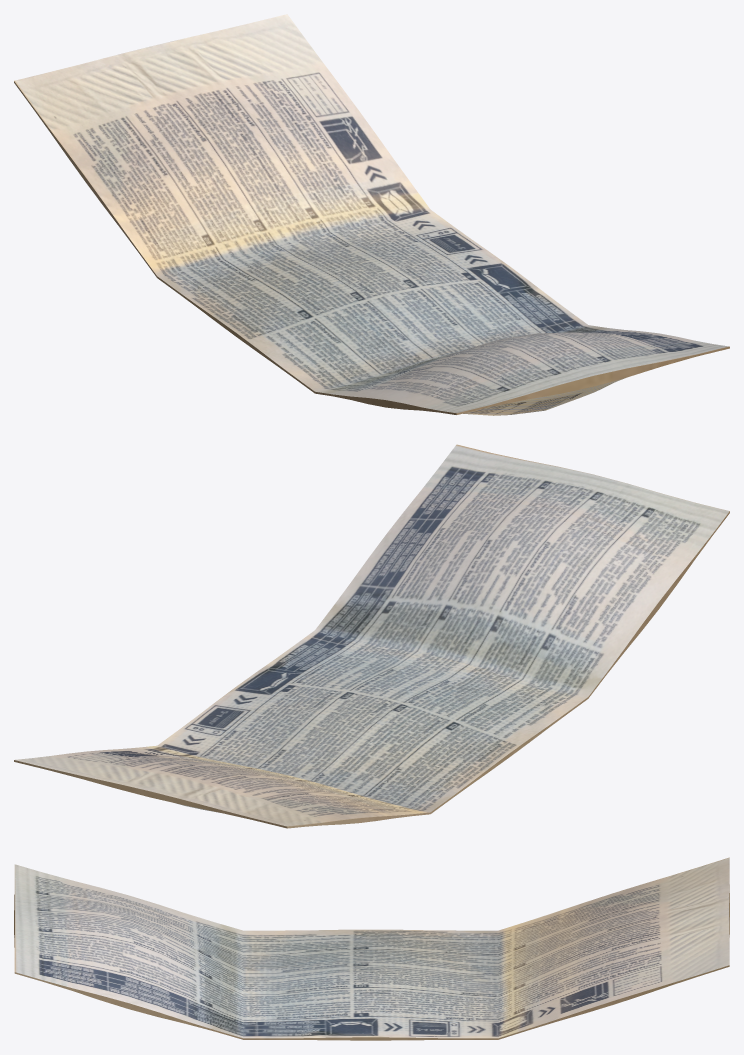
Rendered from popcorn_package.glb.
The picture shows the model from 3 angles, top to bottom: view 1: azimuth 30°, elevation 25°; view 2: azimuth 150°, elevation 25°; view 3: azimuth 270°, elevation 25°; orthographic projection. The views are drawn at different scales.
Parts seen in each view (by area): view 1: Plane.001; view 2: Plane.001; view 3: Plane.001.
Part boxes in pixels (bbox=[...]): Plane.001: bbox=[14, 14, 729, 415]; Plane.001: bbox=[14, 444, 729, 828]; Plane.001: bbox=[14, 857, 729, 1040].
Size of the model in its own units: 0.9404 by 0.3459 by 2.64.
1 material, 1 textured.
